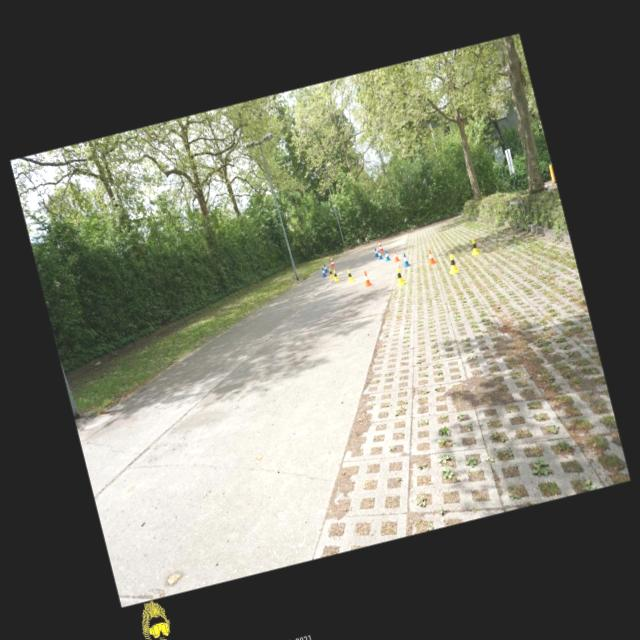blue_cone: (400, 252, 410, 266), (382, 249, 390, 261), (377, 249, 383, 259), (372, 247, 378, 257), (321, 266, 326, 277), (323, 263, 328, 272)
large_orange_cone: (328, 254, 336, 268), (376, 238, 384, 252)
orange_cone: (361, 269, 372, 286), (426, 248, 436, 265), (392, 248, 400, 262)
yellow_cone: (446, 252, 459, 272), (393, 266, 405, 285), (468, 237, 480, 254), (346, 268, 354, 282), (332, 268, 339, 280), (328, 267, 334, 278)
